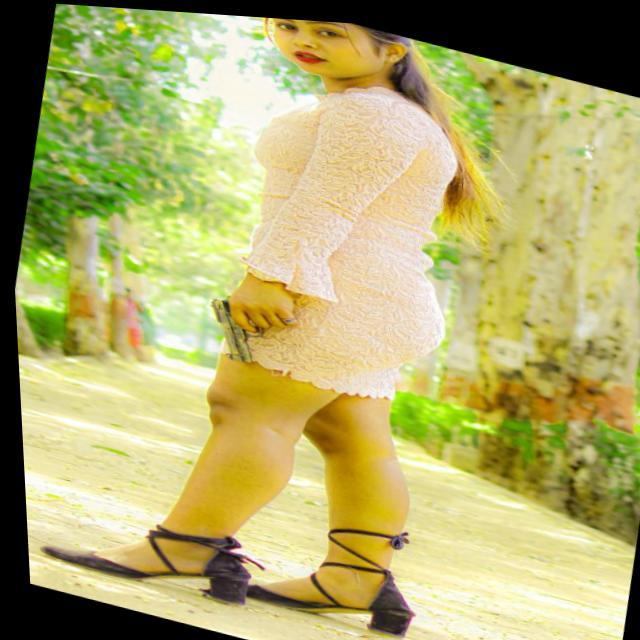weapon: (192, 271, 312, 378)
